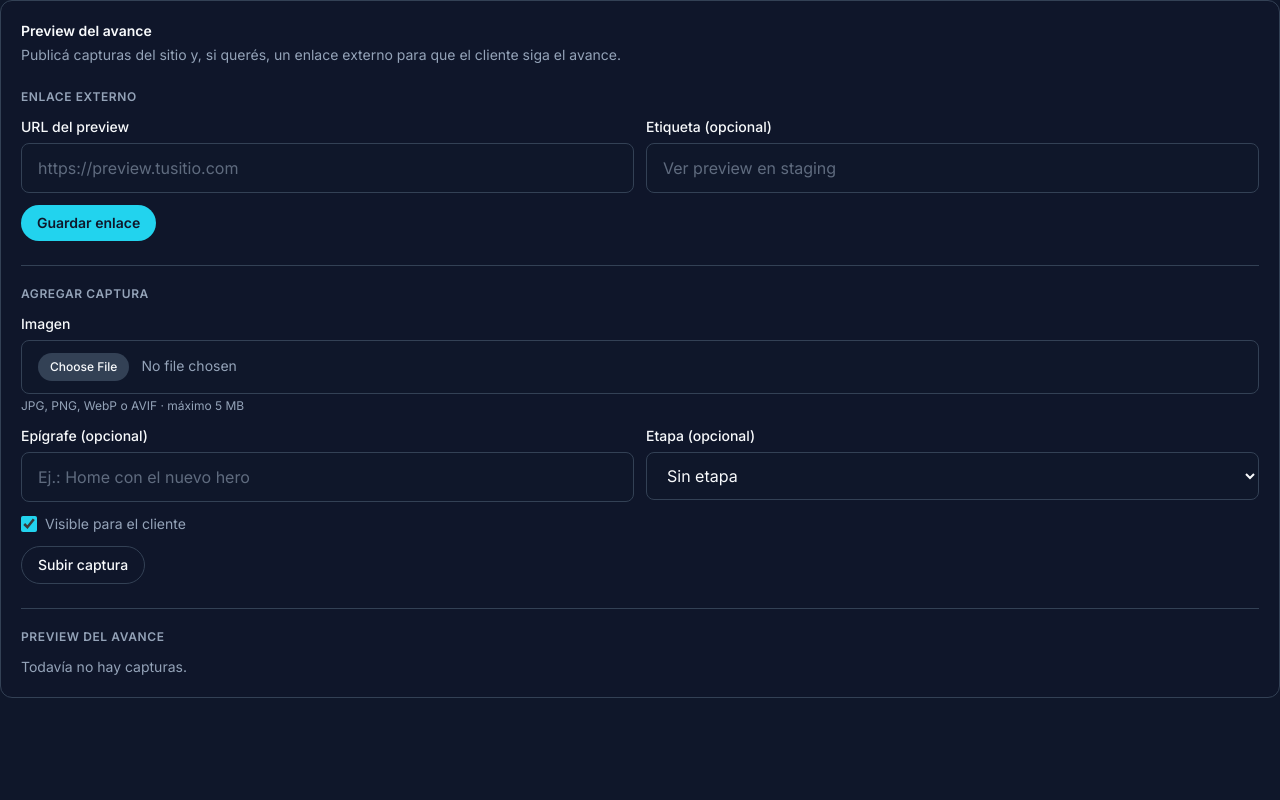
Test: ProjectPreviewManager › avisa si no se eligió una imagen
This screenshot has width=1280, height=800.
Click the button "Subir captura".
click(83, 565)  # box [21,546,145,584]
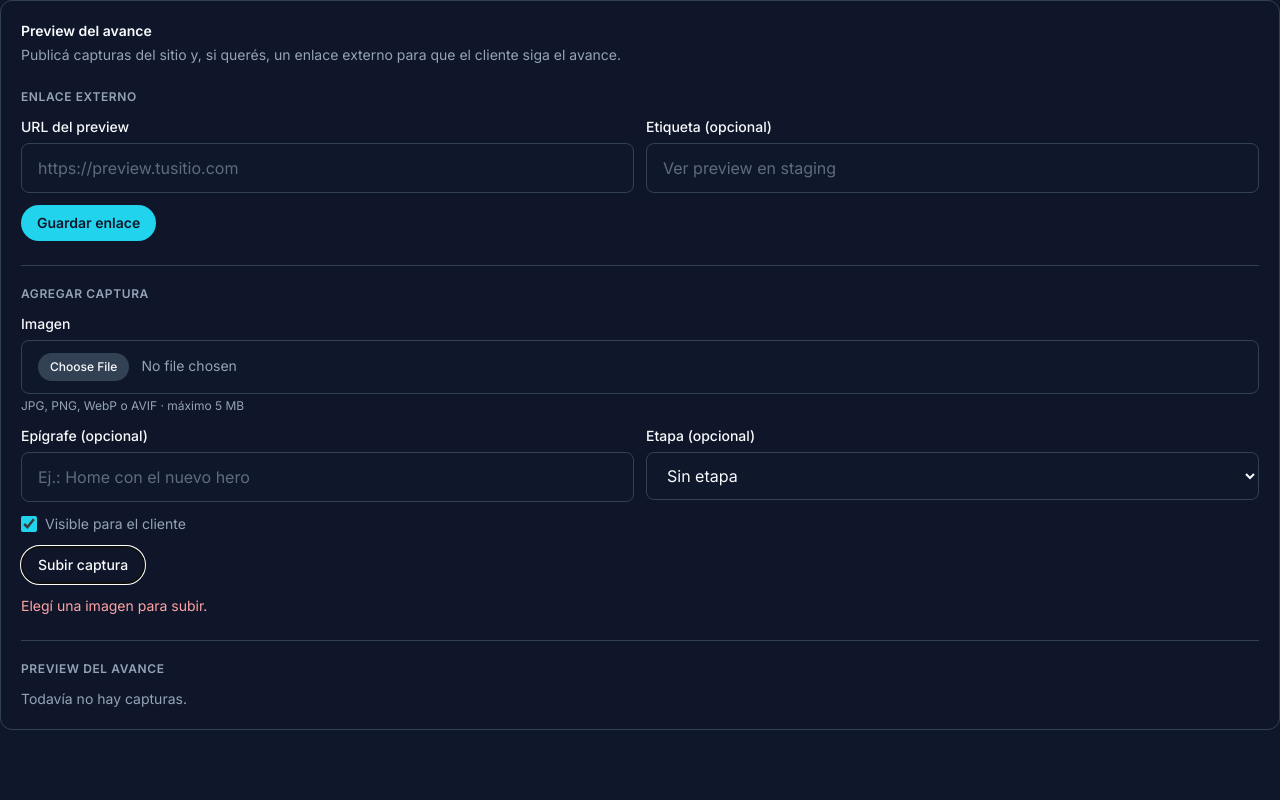
Result: the text "Elegí una imagen para subir." is shown at [21,597,207,614]
